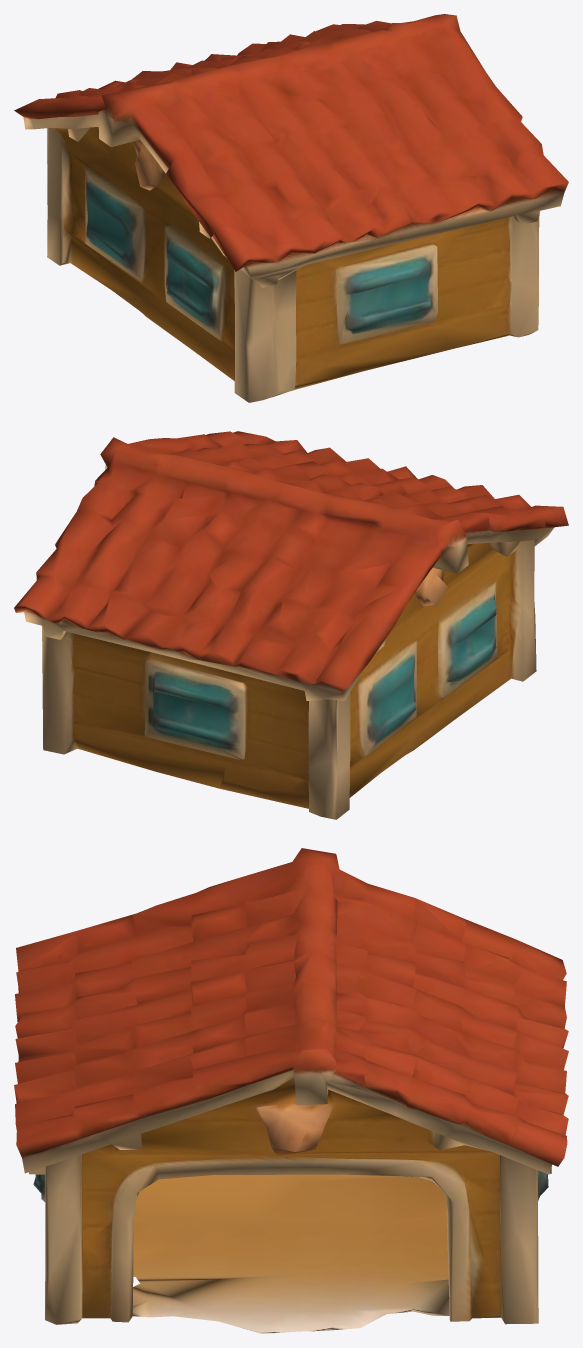
The model's file is pigsty.glb.
The picture shows the model from 3 angles, top to bottom: view 1: azimuth 30°, elevation 25°; view 2: azimuth 150°, elevation 25°; view 3: azimuth 270°, elevation 25°; orthographic projection. The views are drawn at different scales.
Visible parts, largest first — view 1: tripo_node_9641502d-4787-4794-a85d-9bd5f3dcebd9; view 2: tripo_node_9641502d-4787-4794-a85d-9bd5f3dcebd9; view 3: tripo_node_9641502d-4787-4794-a85d-9bd5f3dcebd9.
Part boxes in pixels (x1,y1,x2,y2): tripo_node_9641502d-4787-4794-a85d-9bd5f3dcebd9: (14, 14, 568, 402); tripo_node_9641502d-4787-4794-a85d-9bd5f3dcebd9: (14, 431, 568, 819); tripo_node_9641502d-4787-4794-a85d-9bd5f3dcebd9: (14, 848, 568, 1333).
Bounding box in the file's own units: 0.8918 × 0.5736 × 1.
1 material, 1 textured.
